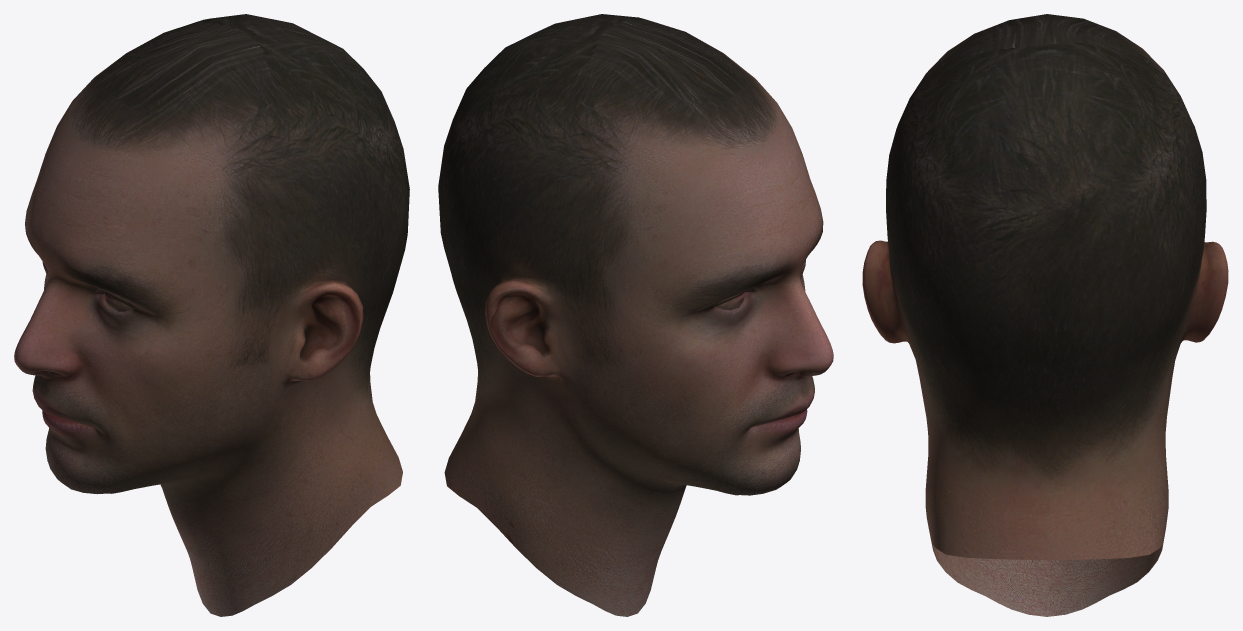
Rendered from cientifico_cabezaT.obj.
3 renders of one model, left to right at view 1: azimuth 30°, elevation 25°; view 2: azimuth 150°, elevation 25°; view 3: azimuth 270°, elevation 25°, orthographic. The views are drawn at different scales.
Visible parts, largest first — view 1: cientifico_cabeza_Material.003; view 2: cientifico_cabeza_Material.003; view 3: cientifico_cabeza_Material.003.
Part boxes in pixels (box(x1,y1,x2,y2)): cientifico_cabeza_Material.003: box(14, 14, 409, 616); cientifico_cabeza_Material.003: box(438, 14, 833, 616); cientifico_cabeza_Material.003: box(862, 14, 1228, 616).
Size of the model in its own units: 0.1673 by 0.2489 by 0.1399.
